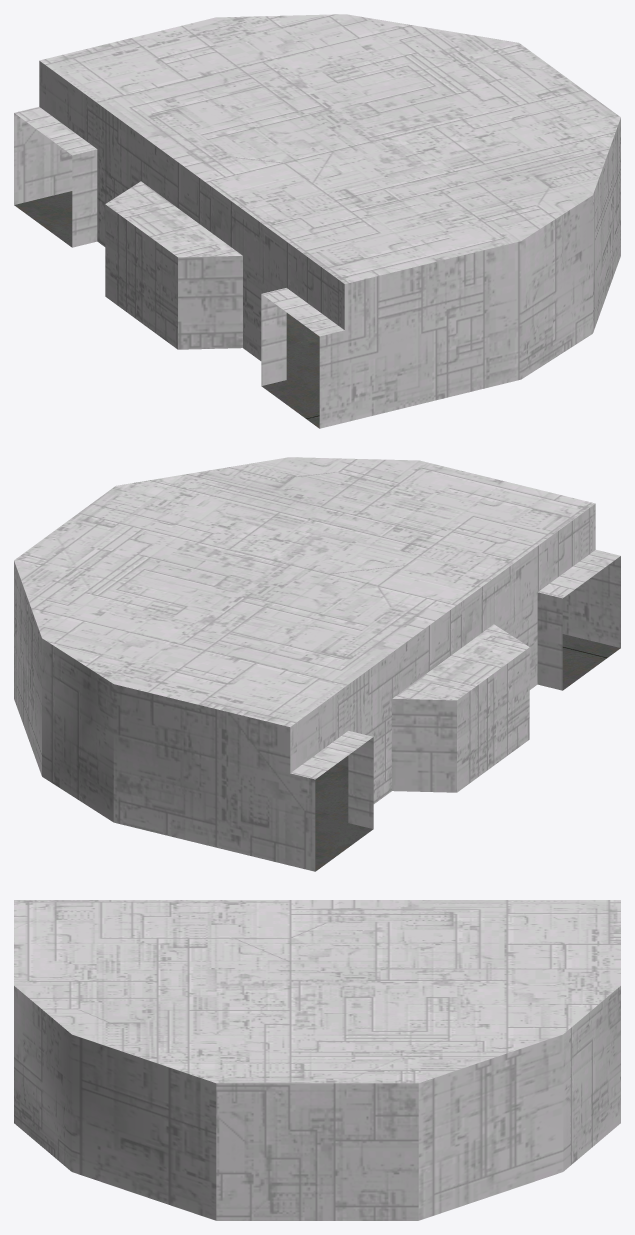
Rendered from thm_spc_star_destroyer_s01_r43_reactor_mesh_r43.fbx.
3 renders of one model, top to bottom at view 1: azimuth 30°, elevation 25°; view 2: azimuth 150°, elevation 25°; view 3: azimuth 270°, elevation 25°, orthographic.
Parts seen in each view (by area): view 1: mesh_node; view 2: mesh_node; view 3: mesh_node.
Part boxes in pixels (x1,y1,x2,y2): mesh_node: [14, 14, 620, 428]; mesh_node: [14, 457, 620, 871]; mesh_node: [14, 900, 620, 1220].
Size of the model in its own units: 17 by 5.25 by 21.
Materials: 2 (2 with a texture image).
